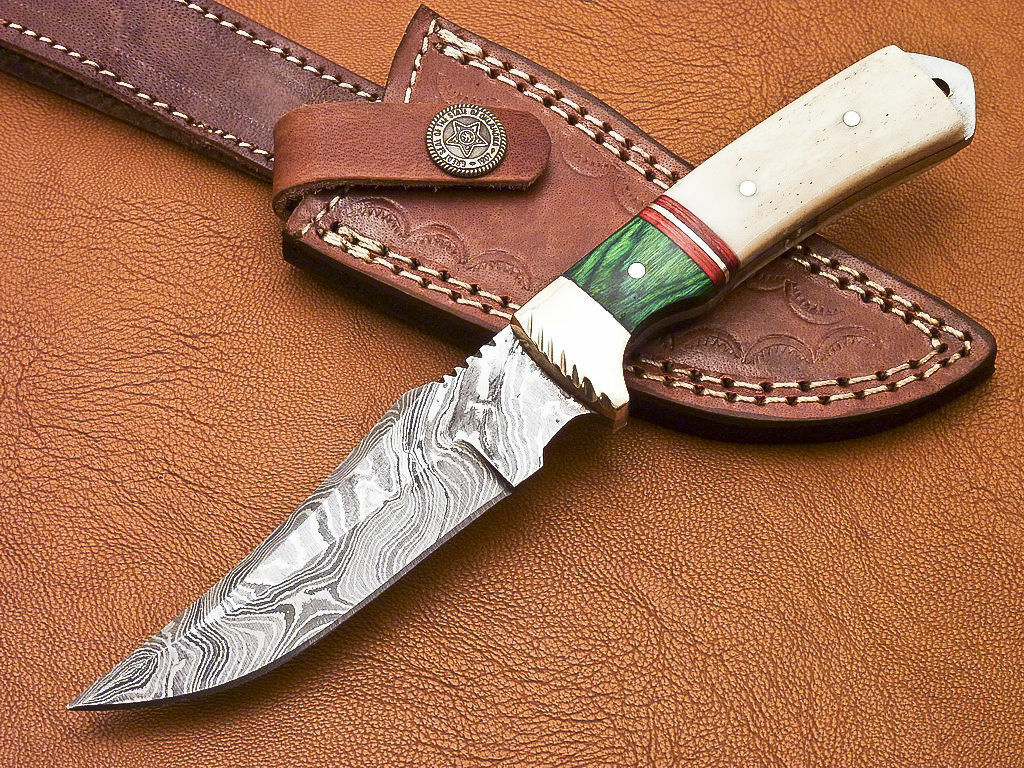knief: (16, 24, 977, 712)
